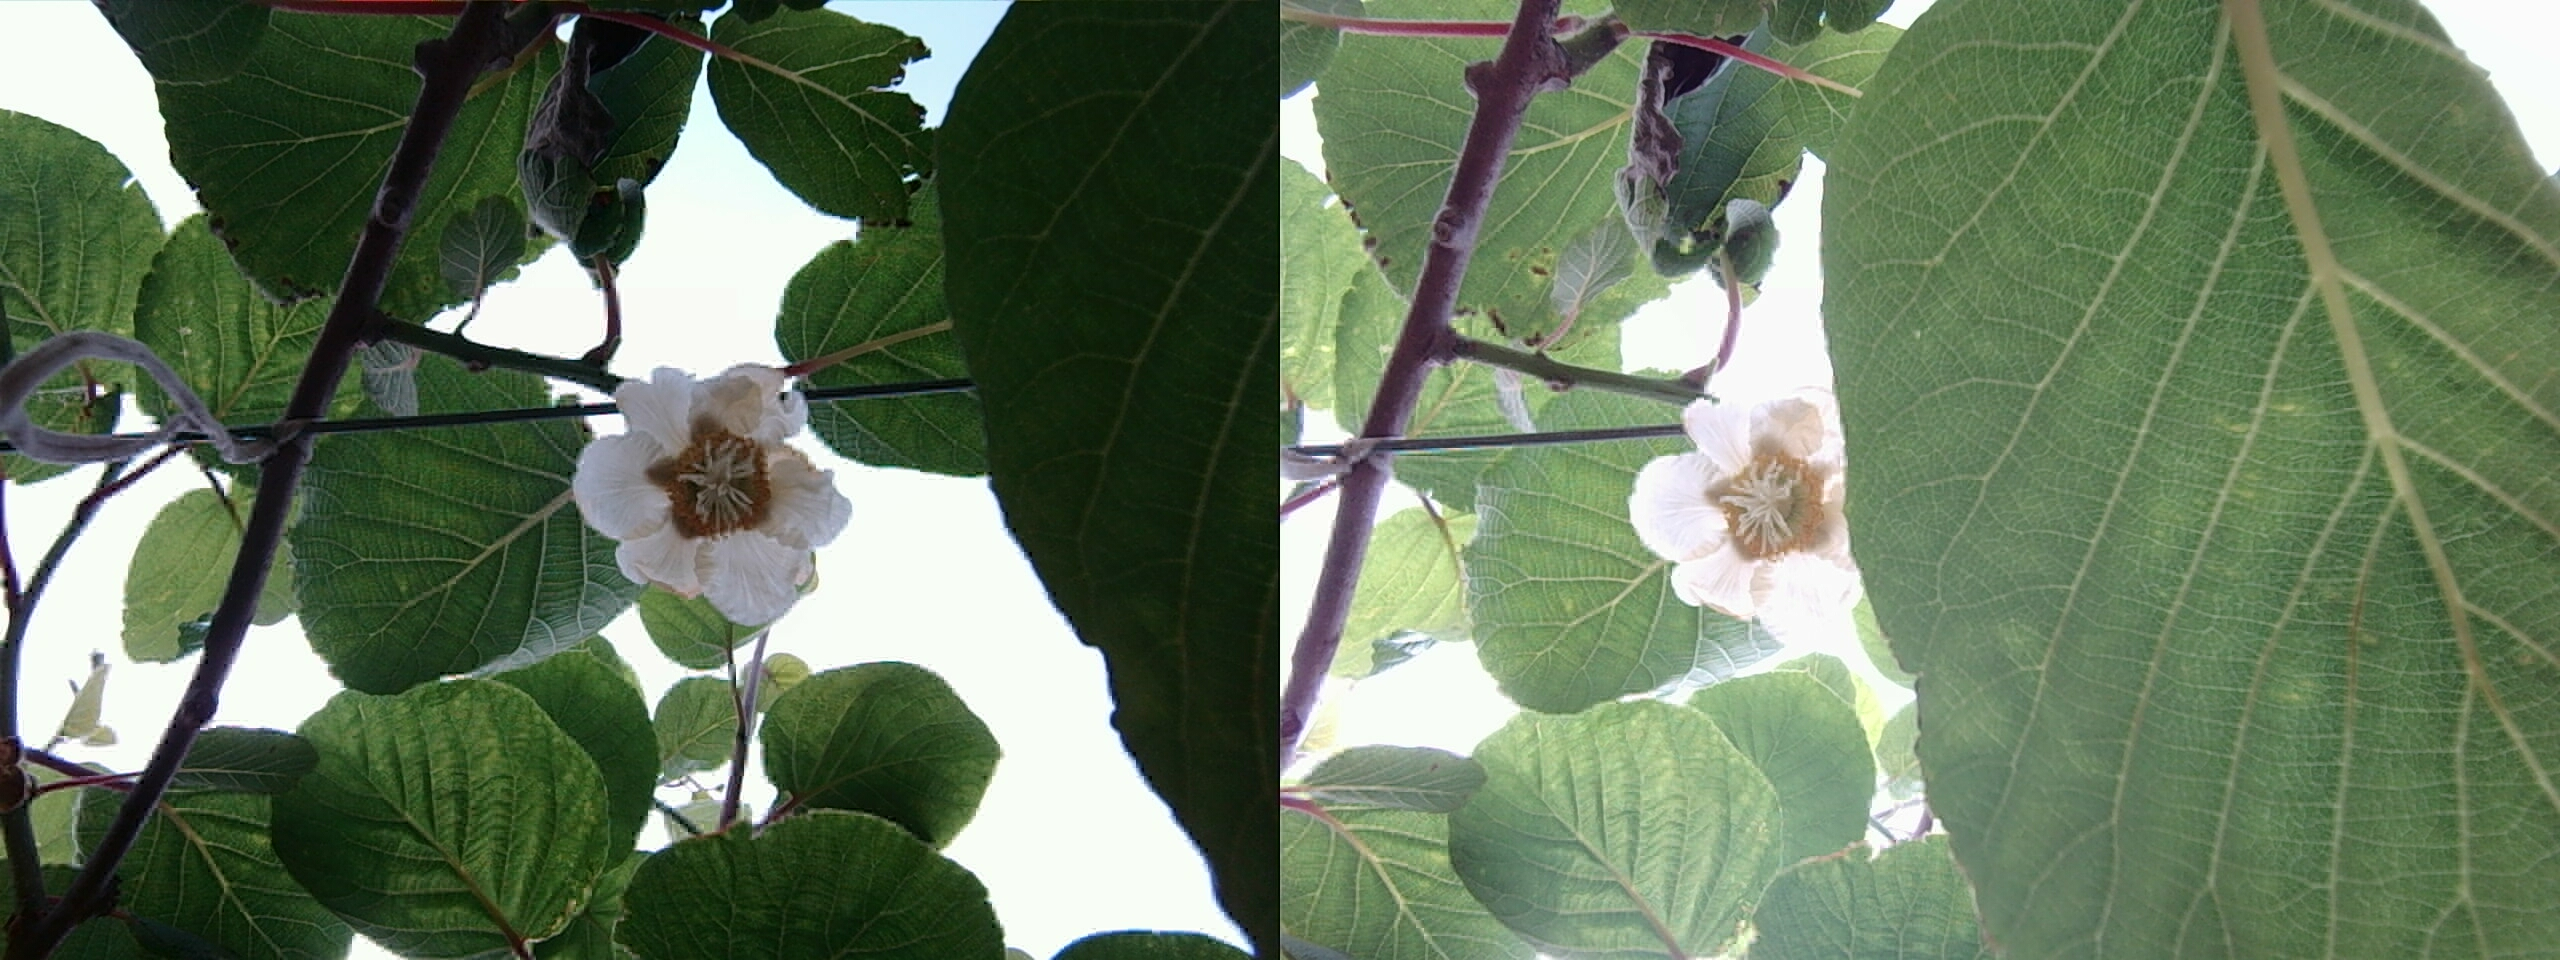flower: (576, 349, 847, 619), (1633, 380, 1851, 612)
